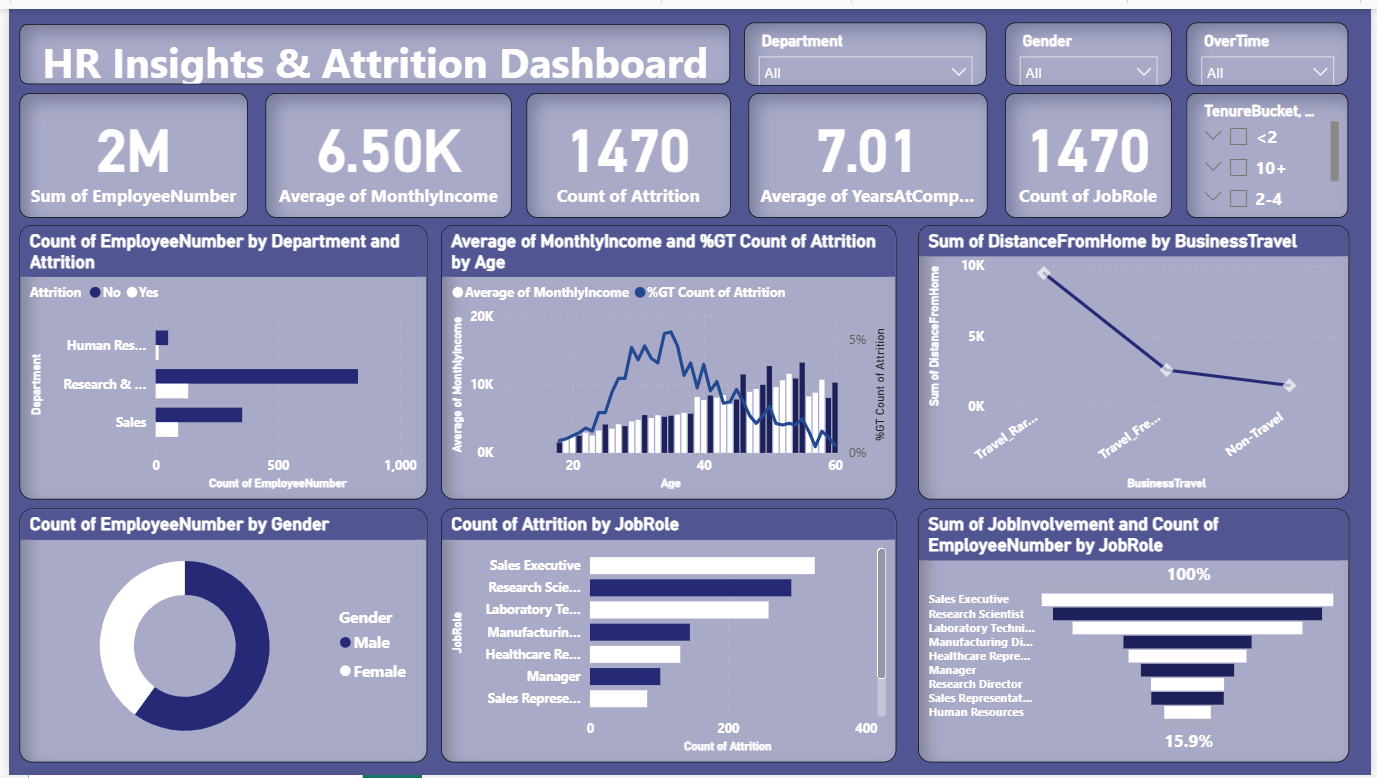

What the dashboard file says about the page in this screenshot:
{"tool":"powerbi","page":{"name":"HR insights & attrition dashboard","canvas":[1280,720],"ordinal":0},"visuals":[{"type":"textbox","box":[9.9,13.6,667.7,56.7],"z":0},{"type":"card","fields":{"Values":["Sum(WA_Fn-UseC_-HR-Employee-Attrition (3).EmployeeNumber)"]},"box":[9.7,78.4,214.7,117],"z":1000},{"type":"card","fields":{"Values":["Avg(WA_Fn-UseC_-HR-Employee-Attrition (3).MonthlyIncome)"]},"box":[241.3,78.4,231.6,117],"z":2000},{"type":"card","fields":{"Values":["CountNonNull(WA_Fn-UseC_-HR-Employee-Attrition (3).Attrition)"]},"box":[486.2,78.4,191.8,117],"z":3000},{"type":"card","fields":{"Values":["Avg(WA_Fn-UseC_-HR-Employee-Attrition (3).YearsAtCompany)"]},"box":[694.9,78.4,224.4,117],"z":4000},{"type":"slicer","fields":{"Values":["WA_Fn-UseC_-HR-Employee-Attrition (3).Department"]},"box":[691.3,12.1,228,59.1],"z":5000},{"type":"slicer","fields":{"Values":["WA_Fn-UseC_-HR-Employee-Attrition (3).Gender"]},"box":[936.2,12.1,156.8,59.1],"z":6000},{"type":"slicer","fields":{"Values":["WA_Fn-UseC_-HR-Employee-Attrition (3).OverTime"]},"box":[1107.5,12.1,152,59.1],"z":7000},{"type":"donutChart","fields":{"Category":["WA_Fn-UseC_-HR-Employee-Attrition (3).Gender"],"Y":["CountNonNull(WA_Fn-UseC_-HR-Employee-Attrition (3).EmployeeNumber)"]},"box":[9.7,469.3,383.6,238.9],"z":8000},{"type":"lineClusteredColumnComboChart","fields":{"Y":["Avg(WA_Fn-UseC_-HR-Employee-Attrition (3).MonthlyIncome)"],"Category":["WA_Fn-UseC_-HR-Employee-Attrition (3).Age"],"Y2":["CountNonNull(WA_Fn-UseC_-HR-Employee-Attrition (3).Attrition)"]},"box":[405.4,202.7,428.3,258.2],"z":9000},{"type":"barChart","fields":{"Category":["WA_Fn-UseC_-HR-Employee-Attrition (3).JobRole"],"Y":["CountNonNull(WA_Fn-UseC_-HR-Employee-Attrition (3).Attrition)"]},"box":[405.4,469.3,428.3,238.9],"z":10000},{"type":"lineChart","fields":{"Category":["WA_Fn-UseC_-HR-Employee-Attrition (3).BusinessTravel"],"Y":["Sum(WA_Fn-UseC_-HR-Employee-Attrition (3).DistanceFromHome)"]},"box":[854.2,202.7,405.4,258.2],"z":11000},{"type":"funnel","fields":{"Y":["Sum(WA_Fn-UseC_-HR-Employee-Attrition (3).JobInvolvement)"],"Category":["WA_Fn-UseC_-HR-Employee-Attrition (3).JobRole"]},"box":[854.2,469.3,405.4,238.9],"z":12000},{"type":"slicer","fields":{"Values":["WA_Fn-UseC_-HR-Employee-Attrition (3).TenureBucket","WA_Fn-UseC_-HR-Employee-Attrition (3).MonthlyIncome"]},"box":[1107.5,78.4,152,117],"z":13000},{"type":"card","fields":{"Values":["CountNonNull(WA_Fn-UseC_-HR-Employee-Attrition (3).JobRole)"]},"box":[936.2,78.4,156.8,117],"z":14000},{"type":"clusteredBarChart","fields":{"Category":["WA_Fn-UseC_-HR-Employee-Attrition (3).Department"],"Y":["CountNonNull(WA_Fn-UseC_-HR-Employee-Attrition (3).EmployeeNumber)"],"Series":["WA_Fn-UseC_-HR-Employee-Attrition (3).Attrition"]},"box":[9.7,202.7,383.6,258.2],"z":15000}]}

Visuals, with their boxes in screenshot pixels (x1, y1, x2, y2), scaled from the page's 1280x720 canvas onto the 1377x778 screenshot:
textbox: l=11, t=15, r=729, b=76
card - Sum(WA_Fn-UseC_-HR-Employee-Attrition (3).EmployeeNumber): l=10, t=85, r=241, b=211
card - Avg(WA_Fn-UseC_-HR-Employee-Attrition (3).MonthlyIncome): l=260, t=85, r=509, b=211
card - CountNonNull(WA_Fn-UseC_-HR-Employee-Attrition (3).Attrition): l=523, t=85, r=729, b=211
card - Avg(WA_Fn-UseC_-HR-Employee-Attrition (3).YearsAtCompany): l=748, t=85, r=989, b=211
slicer - WA_Fn-UseC_-HR-Employee-Attrition (3).Department: l=744, t=13, r=989, b=77
slicer - WA_Fn-UseC_-HR-Employee-Attrition (3).Gender: l=1007, t=13, r=1176, b=77
slicer - WA_Fn-UseC_-HR-Employee-Attrition (3).OverTime: l=1191, t=13, r=1355, b=77
donutChart - WA_Fn-UseC_-HR-Employee-Attrition (3).Gender x CountNonNull(WA_Fn-UseC_-HR-Employee-Attrition (3).EmployeeNumber): l=10, t=507, r=423, b=765
lineClusteredColumnComboChart - Avg(WA_Fn-UseC_-HR-Employee-Attrition (3).MonthlyIncome) x WA_Fn-UseC_-HR-Employee-Attrition (3).Age: l=436, t=219, r=897, b=498
barChart - WA_Fn-UseC_-HR-Employee-Attrition (3).JobRole x CountNonNull(WA_Fn-UseC_-HR-Employee-Attrition (3).Attrition): l=436, t=507, r=897, b=765
lineChart - WA_Fn-UseC_-HR-Employee-Attrition (3).BusinessTravel x Sum(WA_Fn-UseC_-HR-Employee-Attrition (3).DistanceFromHome): l=919, t=219, r=1355, b=498
funnel - Sum(WA_Fn-UseC_-HR-Employee-Attrition (3).JobInvolvement) x WA_Fn-UseC_-HR-Employee-Attrition (3).JobRole: l=919, t=507, r=1355, b=765
slicer - WA_Fn-UseC_-HR-Employee-Attrition (3).TenureBucket x WA_Fn-UseC_-HR-Employee-Attrition (3).MonthlyIncome: l=1191, t=85, r=1355, b=211
card - CountNonNull(WA_Fn-UseC_-HR-Employee-Attrition (3).JobRole): l=1007, t=85, r=1176, b=211
clusteredBarChart - WA_Fn-UseC_-HR-Employee-Attrition (3).Department x CountNonNull(WA_Fn-UseC_-HR-Employee-Attrition (3).EmployeeNumber): l=10, t=219, r=423, b=498
